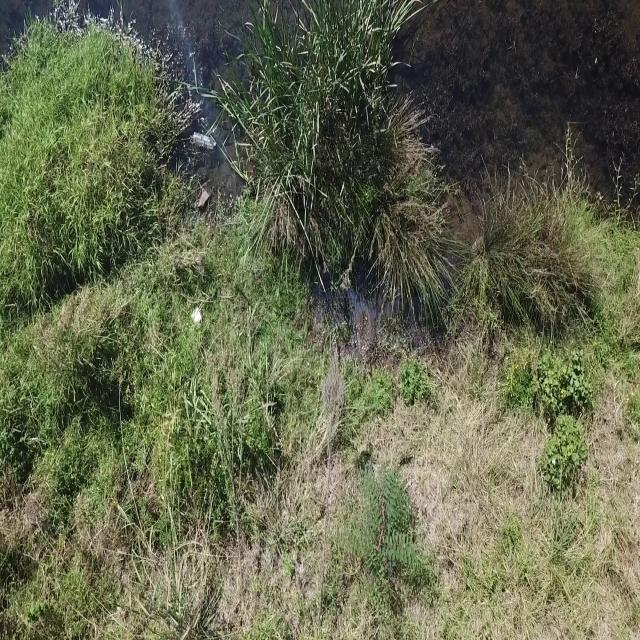Mysore-Thorn-Weed: (344, 462, 427, 603)
